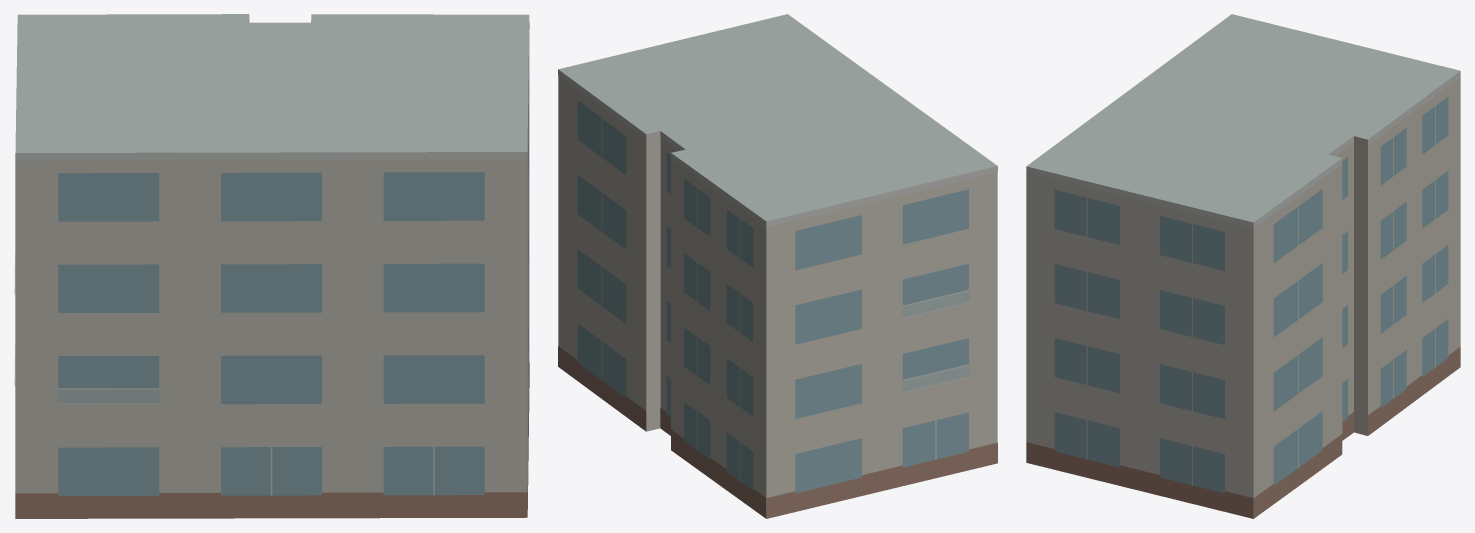
The model's file is survey-upis-32975148.glb.
The picture shows the model from 3 angles, left to right: view 1: azimuth 30°, elevation 25°; view 2: azimuth 150°, elevation 25°; view 3: azimuth 270°, elevation 25°; orthographic projection. The views are drawn at different scales.
Visible parts, largest first — view 1: survey-upis-32975148.tmp; view 2: survey-upis-32975148.tmp; view 3: survey-upis-32975148.tmp.
Part boxes in pixels (x1=…): survey-upis-32975148.tmp: x1=14, y1=14, x2=529, y2=518; survey-upis-32975148.tmp: x1=558, y1=14, x2=997, y2=518; survey-upis-32975148.tmp: x1=1026, y1=14, x2=1460, y2=518.
Bounding box in the file's own units: 17.96 × 11.9 × 15.81.
